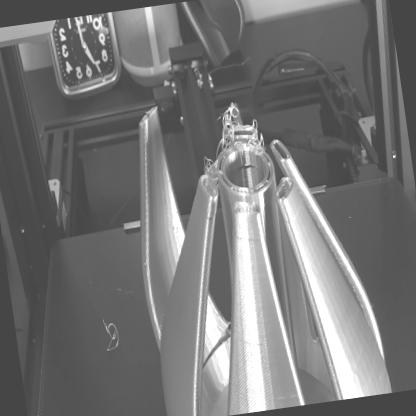fail: (209, 100, 244, 153), (96, 313, 125, 359)
